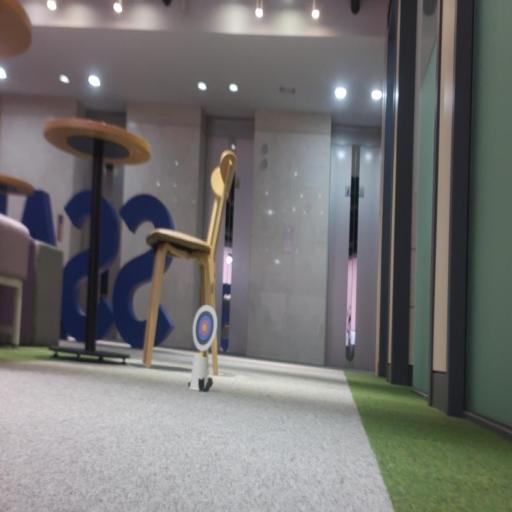target: (192, 304, 217, 354)
